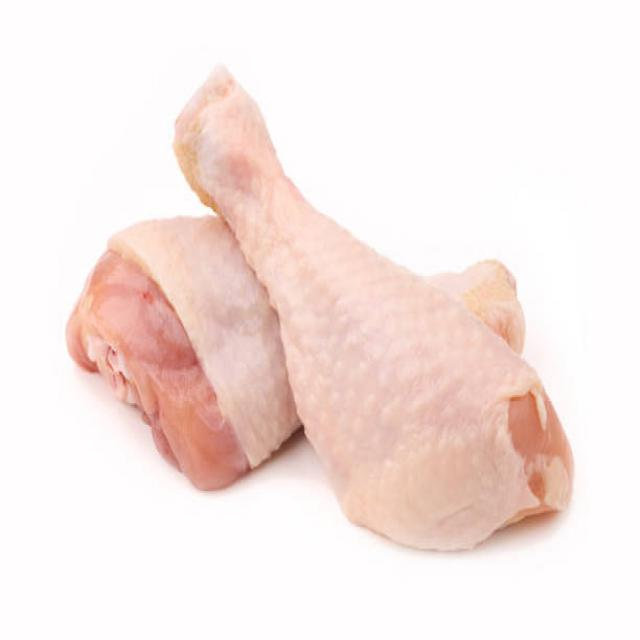Chicken Thigh: (218, 111, 574, 536)
